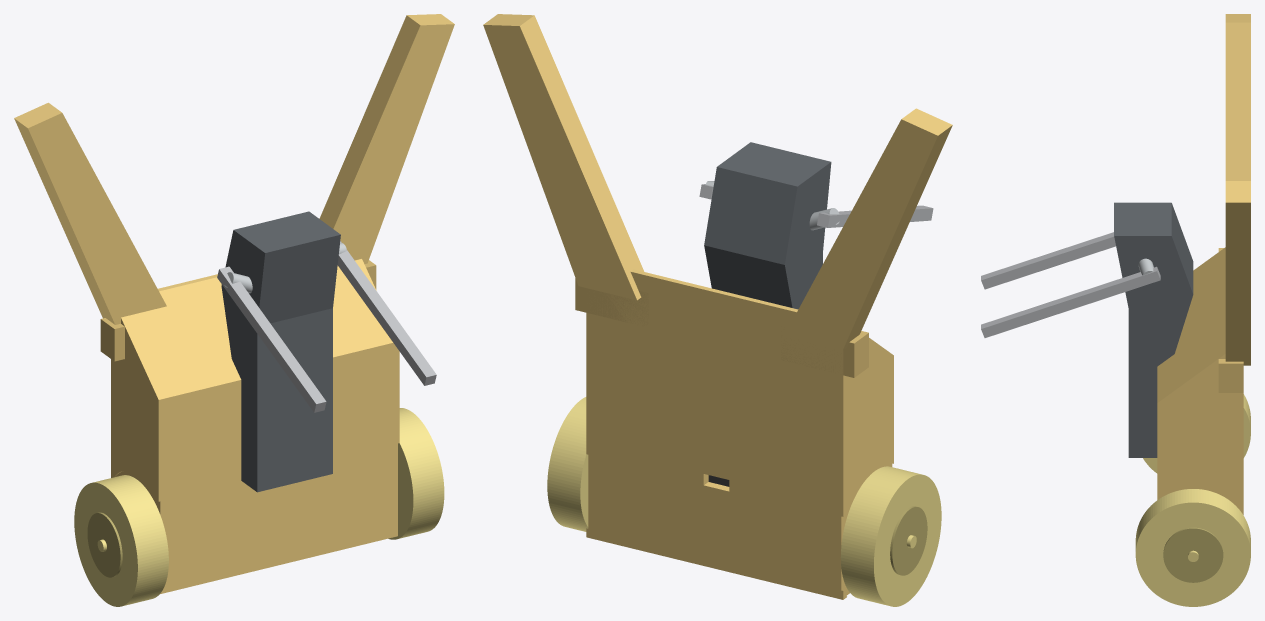
File: vector.glb
3 renders of one model, left to right at view 1: azimuth 30°, elevation 25°; view 2: azimuth 150°, elevation 25°; view 3: azimuth 270°, elevation 25°, orthographic. The views are drawn at different scales.
Visible parts, largest first — view 1: chassis, arm, fork_l, fork_r, wheel_r0, wheel_l0, post_r, post_l, dt_hub_wheel_r0, dt_mount_fork_r; view 2: chassis, fork_l, arm, fork_r, wheel_r0, wheel_l0, dt_hub_wheel_r0, dt_mount_fork_l, dt_mount_fork_r, post_r; view 3: chassis, arm, wheel_l0, fork_l, fork_r, post_l, dt_hub_wheel_l0, post_r, dt_mount_fork_l, wheel_r0.
Part boxes in pixels (x1=…): chassis: x1=111, y1=259, x2=399, y2=593; arm: x1=221, y1=211, x2=340, y2=492; fork_l: x1=319, y1=14, x2=454, y2=264; fork_r: x1=14, y1=102, x2=166, y2=324; wheel_r0: x1=74, y1=475, x2=168, y2=606; wheel_l0: x1=388, y1=408, x2=444, y2=539; post_r: x1=217, y1=266, x2=326, y2=412; post_l: x1=337, y1=241, x2=436, y2=385; dt_hub_wheel_r0: x1=87, y1=512, x2=122, y2=577; dt_mount_fork_r: x1=100, y1=318, x2=124, y2=361; chassis: x1=586, y1=269, x2=893, y2=599; fork_l: x1=483, y1=14, x2=644, y2=300; arm: x1=704, y1=142, x2=831, y2=309; fork_r: x1=784, y1=108, x2=952, y2=350; wheel_r0: x1=840, y1=466, x2=941, y2=606; wheel_l0: x1=547, y1=397, x2=588, y2=531; dt_hub_wheel_r0: x1=890, y1=506, x2=927, y2=575; dt_mount_fork_l: x1=575, y1=278, x2=648, y2=325; dt_mount_fork_r: x1=781, y1=331, x2=868, y2=377; post_r: x1=817, y1=205, x2=933, y2=227; chassis: x1=1157, y1=247, x2=1243, y2=514; arm: x1=1114, y1=202, x2=1193, y2=457; wheel_l0: x1=1135, y1=489, x2=1250, y2=606; fork_l: x1=1225, y1=181, x2=1250, y2=365; fork_r: x1=1225, y1=14, x2=1250, y2=180; post_l: x1=981, y1=266, x2=1160, y2=337; dt_hub_wheel_l0: x1=1163, y1=527, x2=1223, y2=582; post_r: x1=981, y1=232, x2=1115, y2=289; dt_mount_fork_l: x1=1218, y1=359, x2=1243, y2=392; wheel_r0: x1=1143, y1=394, x2=1250, y2=473.
Bounding box in the file's own units: 124 × 134 × 74.95.
